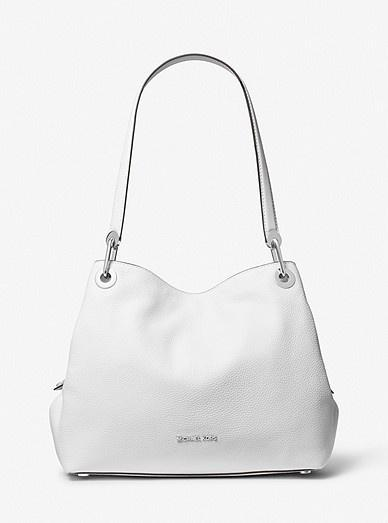MICHAEL-KORS: (176, 435, 217, 442)
